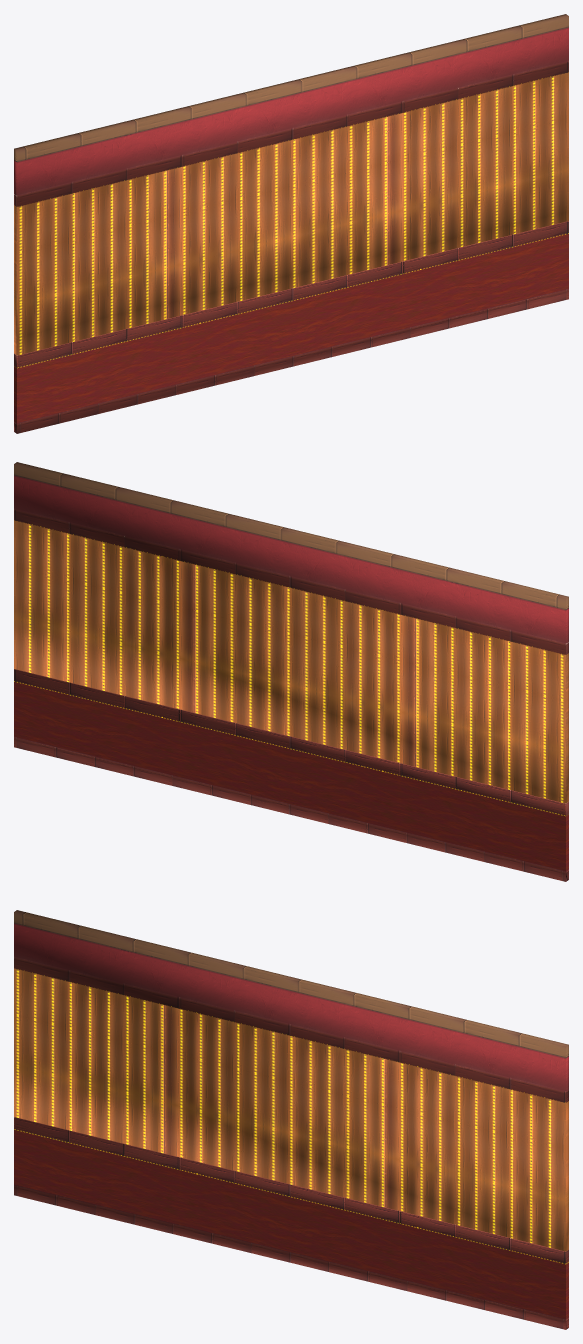
File: RoomWall01_Art.fbx
The picture shows the model from 3 angles, top to bottom: view 1: azimuth 30°, elevation 25°; view 2: azimuth 150°, elevation 25°; view 3: azimuth 330°, elevation 25°; orthographic projection.
Visible parts, largest first — view 1: RoomWall01_Art; view 2: RoomWall01_Art; view 3: RoomWall01_Art.
Part boxes in pixels (<box>): RoomWall01_Art: <box>14,14,568,433</box>; RoomWall01_Art: <box>14,462,568,881</box>; RoomWall01_Art: <box>14,910,568,1329</box>.
Size of the model in its own units: 16.02 by 7.85 by 0.15.
